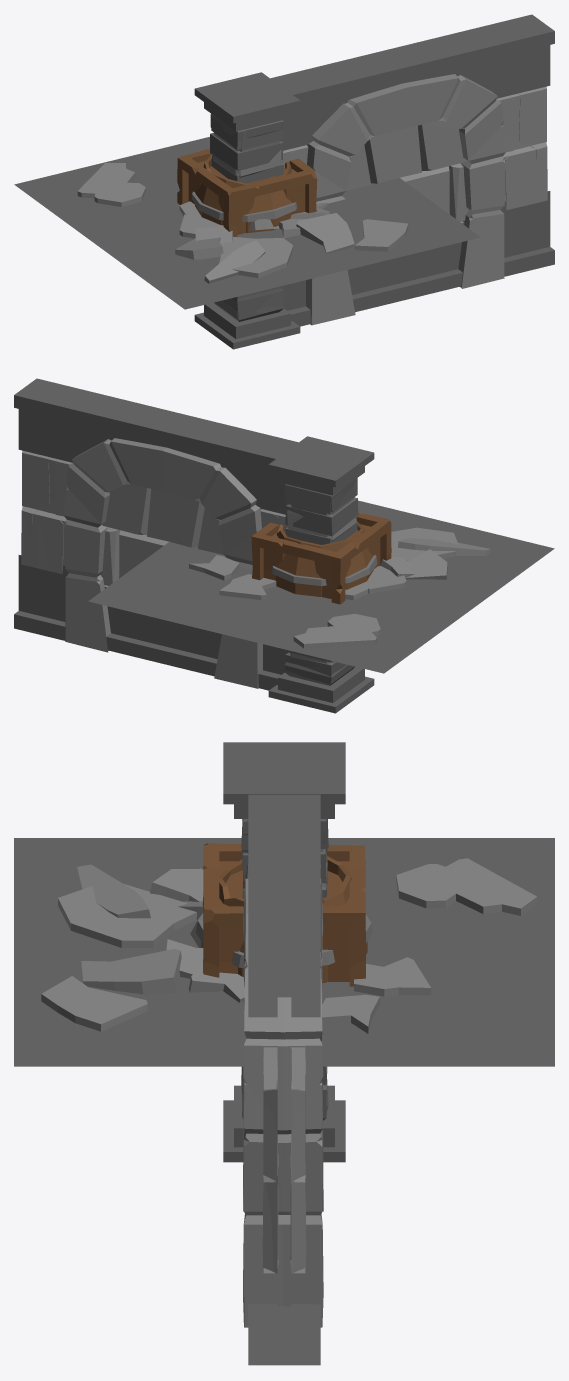
Rendered from dungeon_kit.glb.
3 renders of one model, top to bottom at view 1: azimuth 30°, elevation 25°; view 2: azimuth 150°, elevation 25°; view 3: azimuth 270°, elevation 25°, orthographic. The views are drawn at different scales.
Visible parts, largest first — view 1: Doorway, Floor, Wall.001, Pillar.003, Crate.007, FloorDebre2, FloorDebre, Pillar.005, Barrel.007, Pillar.004, FloorDebre1; view 2: Doorway, Floor, Wall.001, Pillar.003, Crate.007, FloorDebre2, Pillar.005, Barrel.007, FloorDebre1, FloorDebre, Pillar.004; view 3: Floor, Doorway, FloorDebre2, Pillar.003, FloorDebre, Wall.001, Crate.007, FloorDebre1, Barrel.007, Pillar.005.
Boxes of the visible parts, <box> form: Doorway: <box>270,14,554,326</box>; Floor: <box>14,137,480,309</box>; Wall.001: <box>271,15,554,324</box>; Pillar.003: <box>194,72,300,349</box>; Crate.007: <box>177,148,317,236</box>; FloorDebre2: <box>77,163,408,283</box>; FloorDebre: <box>179,203,354,278</box>; Pillar.005: <box>210,128,283,315</box>; Barrel.007: <box>191,154,297,232</box>; Pillar.004: <box>211,114,290,338</box>; FloorDebre1: <box>94,182,306,247</box>; Doorway: <box>14,378,298,690</box>; Floor: <box>88,500,554,673</box>; Wall.001: <box>14,379,295,680</box>; Pillar.003: <box>268,436,374,713</box>; Crate.007: <box>251,512,391,604</box>; FloorDebre2: <box>189,538,490,648</box>; Pillar.005: <box>284,478,358,685</box>; Barrel.007: <box>271,522,377,596</box>; FloorDebre1: <box>219,557,414,636</box>; FloorDebre: <box>364,527,457,593</box>; Pillar.004: <box>284,479,360,685</box>; Floor: <box>14,838,554,1066</box>; Doorway: <box>243,794,323,1346</box>; FloorDebre2: <box>41,858,537,1033</box>; Pillar.003: <box>223,742,345,1162</box>; FloorDebre: <box>58,884,244,1002</box>; Wall.001: <box>248,794,320,1365</box>; Crate.007: <box>202,843,365,986</box>; FloorDebre1: <box>166,864,483,996</box>; Barrel.007: <box>196,856,372,982</box>; Pillar.005: <box>241,819,328,1120</box>.
Size of the model in its own units: 6 by 3.03 by 4.
